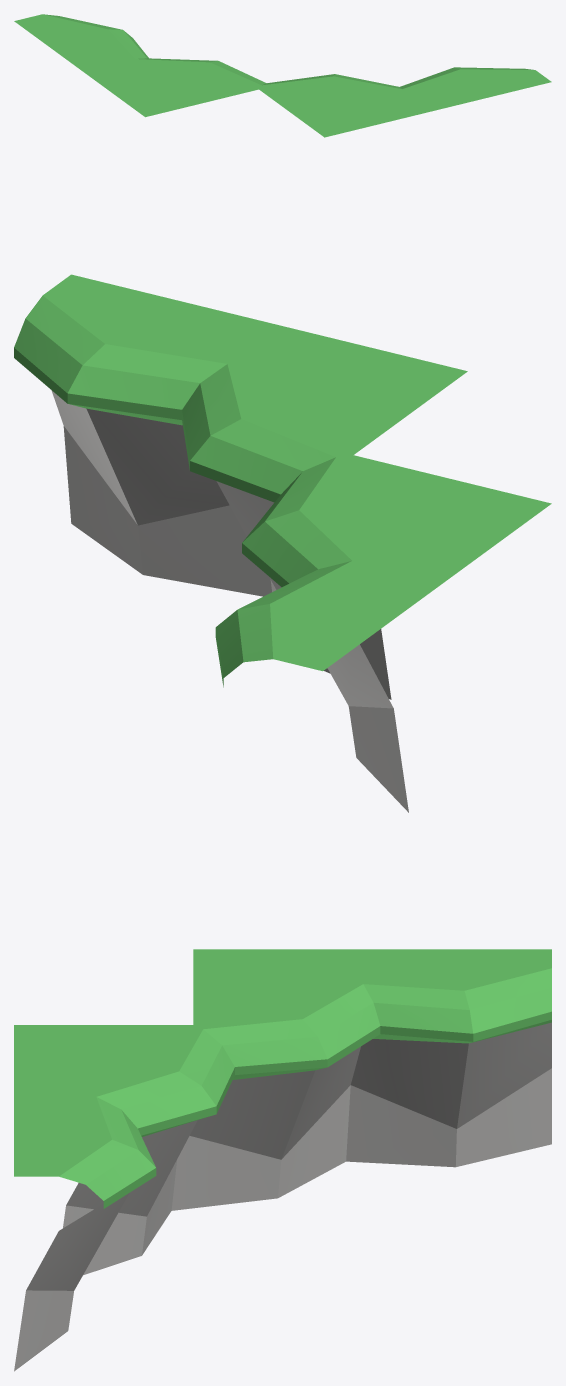
Rendered from Cliff_Terrain_Corner_Inner_3x3_Top.glb.
The picture shows the model from 3 angles, top to bottom: view 1: azimuth 30°, elevation 25°; view 2: azimuth 150°, elevation 25°; view 3: azimuth 270°, elevation 25°; orthographic projection. The views are drawn at different scales.
Parts seen in each view (by area): view 1: Cliff_Terrain_Corner_Inner_3x3_Top; view 2: Cliff_Terrain_Corner_Inner_3x3_Top; view 3: Cliff_Terrain_Corner_Inner_3x3_Top.
Boxes of the visible parts, left/top/right/bottom form: Cliff_Terrain_Corner_Inner_3x3_Top: left=14, top=14, right=551, bottom=137; Cliff_Terrain_Corner_Inner_3x3_Top: left=14, top=274, right=551, bottom=812; Cliff_Terrain_Corner_Inner_3x3_Top: left=14, top=949, right=551, bottom=1371.
Bounding box in the file's own units: 3 × 1.2 × 3.
